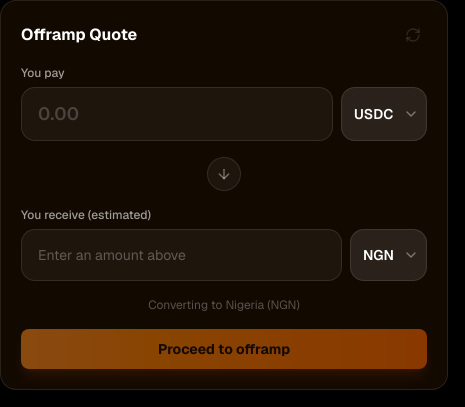
Scenario: OfframpSwapWidget — interactions › updates corridor selector value
Select "GHS" in the dropdown named "select country" in the row of "Enter an amount above". click: (388, 255)
box: [350,229,427,281]
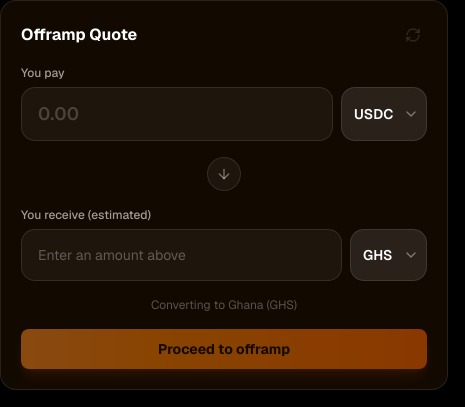
Now the text "Converting to Ghana (GHS)" is shown, box [151,297,297,313]
